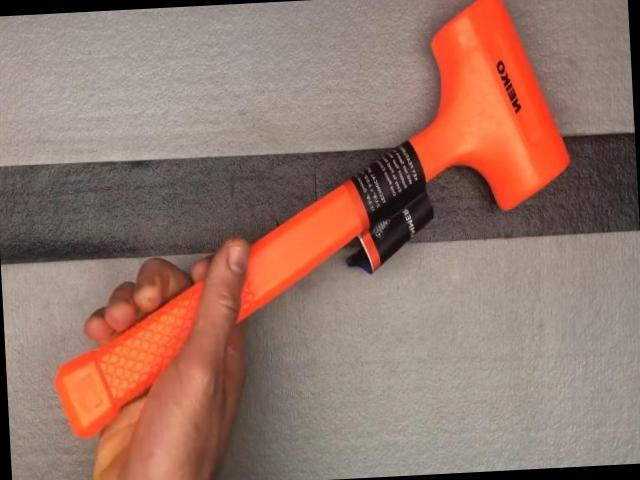hammer: (34, 0, 584, 442)
